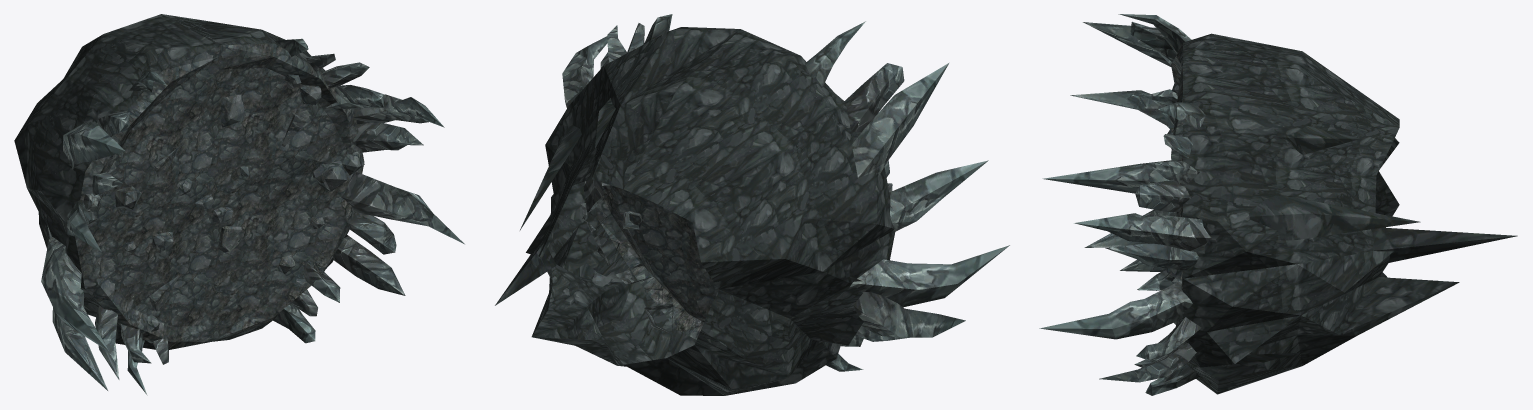
Rendered from juqing_fuben_253_building_changqiao_01b.obj.
The picture shows the model from 3 angles, left to right: view 1: azimuth 30°, elevation 25°; view 2: azimuth 150°, elevation 25°; view 3: azimuth 270°, elevation 25°; orthographic projection. The views are drawn at different scales.
Parts seen in each view (by area): view 1: juqing_fuben_253_building_changqiao_01b; view 2: juqing_fuben_253_building_changqiao_01b; view 3: juqing_fuben_253_building_changqiao_01b.
Boxes of the visible parts, left/top/right/bottom form: juqing_fuben_253_building_changqiao_01b: left=14, top=14, right=464, bottom=395; juqing_fuben_253_building_changqiao_01b: left=495, top=14, right=1009, bottom=395; juqing_fuben_253_building_changqiao_01b: left=1039, top=14, right=1517, bottom=395.
Bounding box in the file's own units: 962 × 807 × 1113.
Materials: 3 (3 with a texture image).
